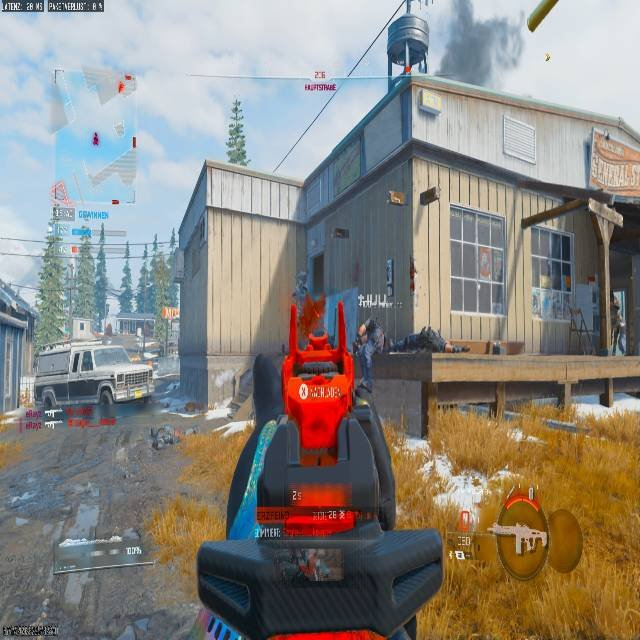player: (351, 321, 381, 402)
